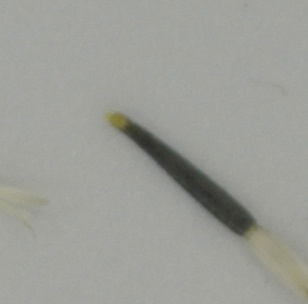เมล็ดดีเรียวยาว: (104, 109, 308, 282)
